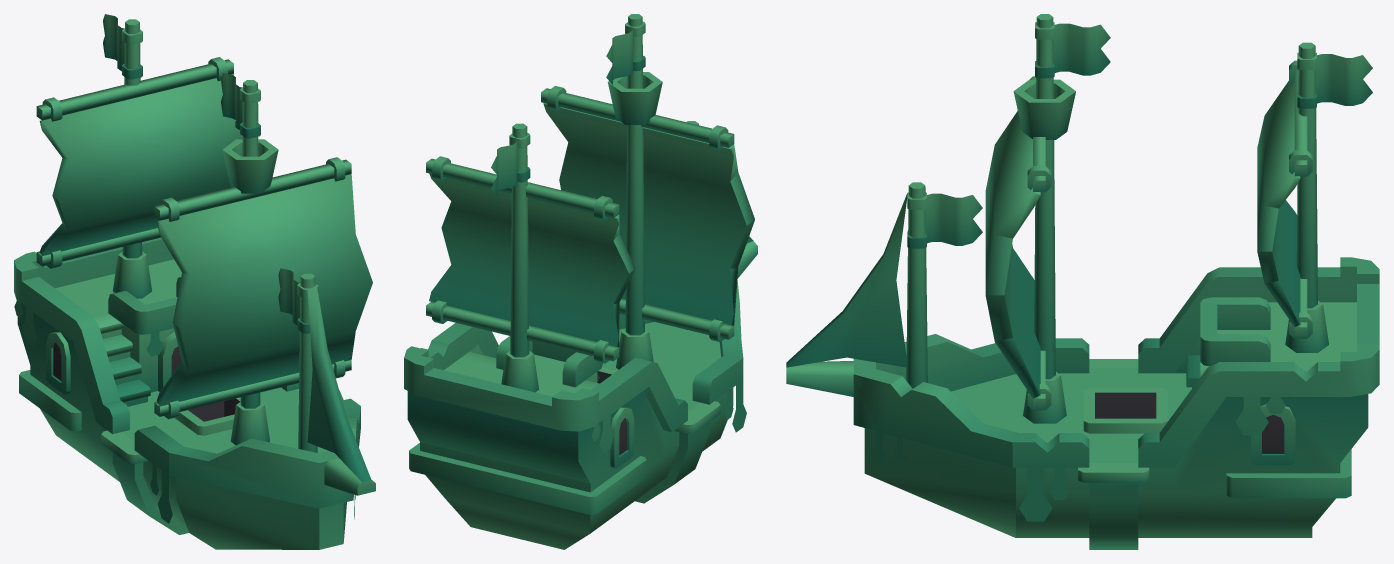
The model's file is ship-ghost.glb.
3 renders of one model, left to right at view 1: azimuth 30°, elevation 25°; view 2: azimuth 150°, elevation 25°; view 3: azimuth 270°, elevation 25°, orthographic. The views are drawn at different scales.
Parts seen in each view (by area): view 1: ship-ghost; view 2: ship-ghost; view 3: ship-ghost.
Boxes of the visible parts, x1,y1,x2,y2 form: ship-ghost: [14, 14, 375, 549]; ship-ghost: [404, 14, 757, 549]; ship-ghost: [786, 14, 1379, 549].
Bounding box in the file's own units: 4.8 × 9.96 × 10.6.
